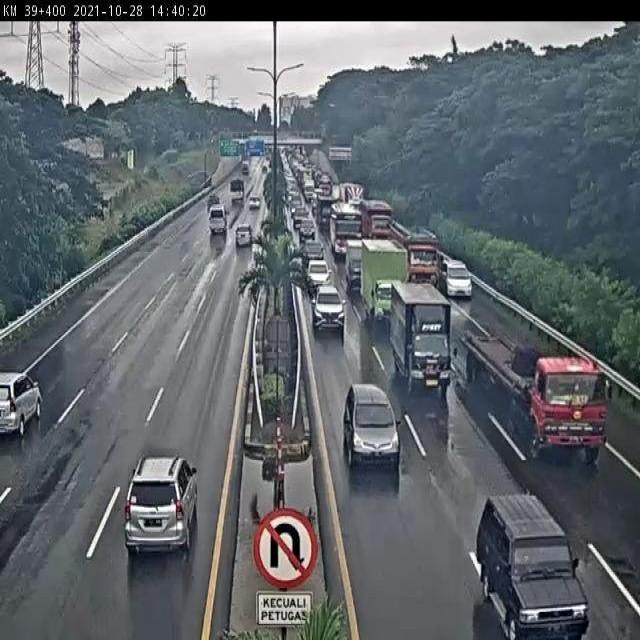bus-l-: (328, 203, 365, 256)
car: (477, 494, 591, 640), (124, 452, 200, 555), (343, 385, 402, 468), (0, 373, 43, 440), (311, 284, 346, 329), (444, 258, 474, 302), (306, 261, 332, 292), (302, 240, 325, 267)
truck-l-: (388, 221, 442, 288)
truck-m-: (391, 280, 452, 388), (362, 236, 410, 323)
truck-s-: (346, 236, 372, 289)
truck-xl-: (462, 325, 606, 460)
